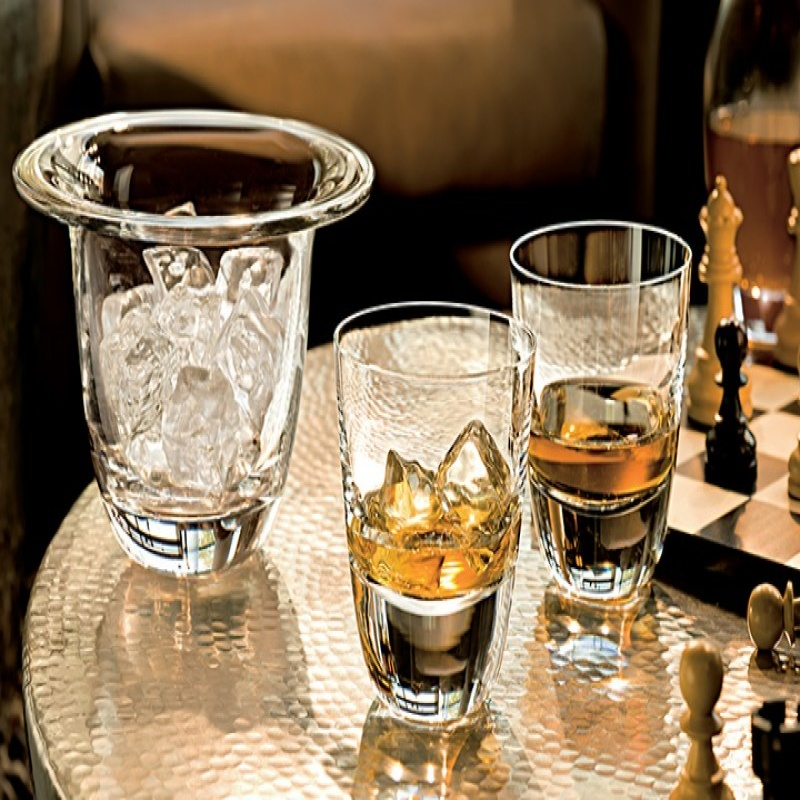whiskey: (342, 307, 544, 738), (527, 224, 691, 615)
